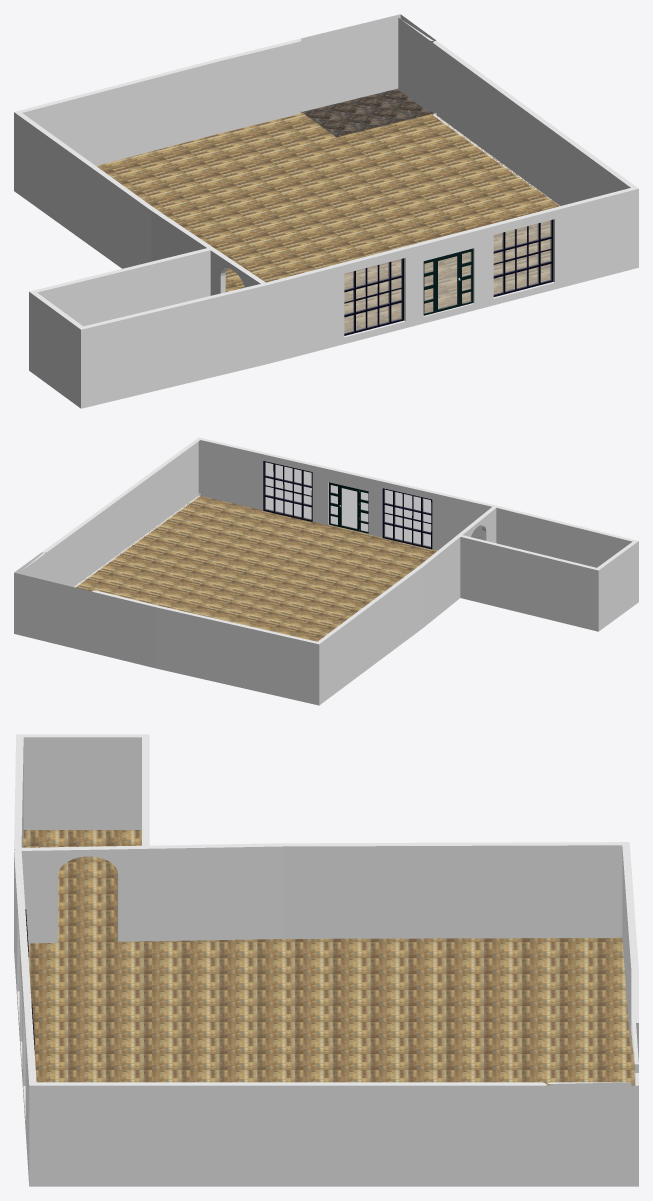
File: room2.gltf
3 renders of one model, top to bottom at view 1: azimuth 30°, elevation 25°; view 2: azimuth 150°, elevation 25°; view 3: azimuth 270°, elevation 25°, orthographic. The views are drawn at different scales.
Visible parts, largest first — view 1: Object_2, Object_56, Object_3, Object_12, Object_40, Object_9, Object_41, Object_79, Object_81; view 2: Object_2, Object_56, Object_3, Object_12, Object_40, Object_41, Object_79, Object_81; view 3: Object_56, Object_2, Object_3, Object_12.
Part boxes in pixels (x1=…): Object_2: x1=14, y1=14, x2=638, y2=408; Object_56: x1=96, y1=112, x2=559, y2=332; Object_3: x1=22, y1=18, x2=429, y2=326; Object_12: x1=14, y1=19, x2=638, y2=329; Object_40: x1=344, y1=220, x2=551, y2=333; Object_9: x1=302, y1=88, x2=433, y2=137; Object_41: x1=344, y1=219, x2=553, y2=335; Object_79: x1=424, y1=252, x2=471, y2=313; Object_81: x1=423, y1=248, x2=473, y2=315; Object_2: x1=14, y1=440, x2=638, y2=705; Object_56: x1=75, y1=495, x2=437, y2=641; Object_3: x1=20, y1=440, x2=632, y2=579; Object_12: x1=22, y1=437, x2=638, y2=644; Object_40: x1=265, y1=462, x2=431, y2=547; Object_41: x1=263, y1=461, x2=432, y2=549; Object_79: x1=330, y1=485, x2=368, y2=531; Object_81: x1=329, y1=482, x2=368, y2=533; Object_56: x1=23, y1=830, x2=635, y2=1085; Object_2: x1=14, y1=849, x2=638, y2=1186; Object_3: x1=21, y1=737, x2=631, y2=1085; Object_12: x1=14, y1=734, x2=638, y2=1085.
Bounding box in the file's own units: 21.99 × 2.95 × 16.53.
12 materials, 2 textured.
